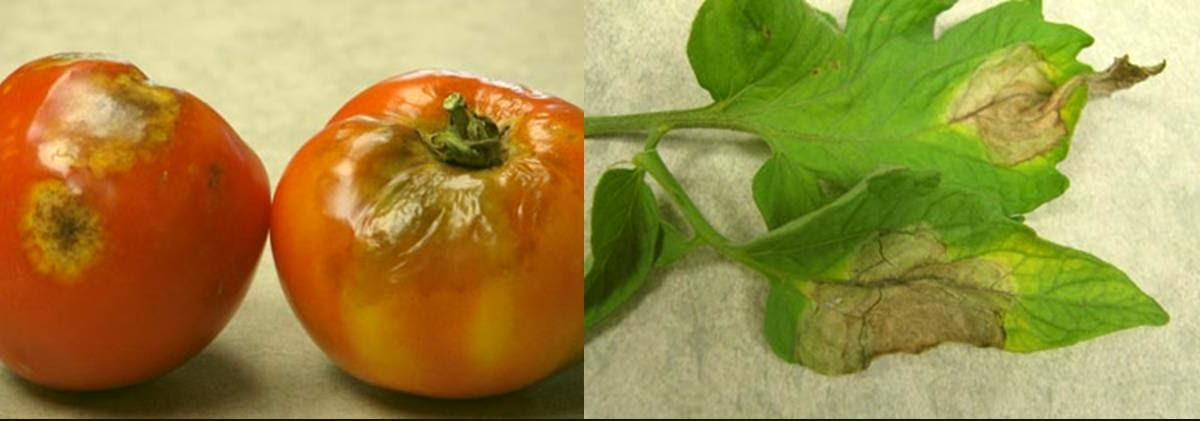Tomato leaf late blight: (714, 166, 1194, 409), (649, 6, 1174, 218)
